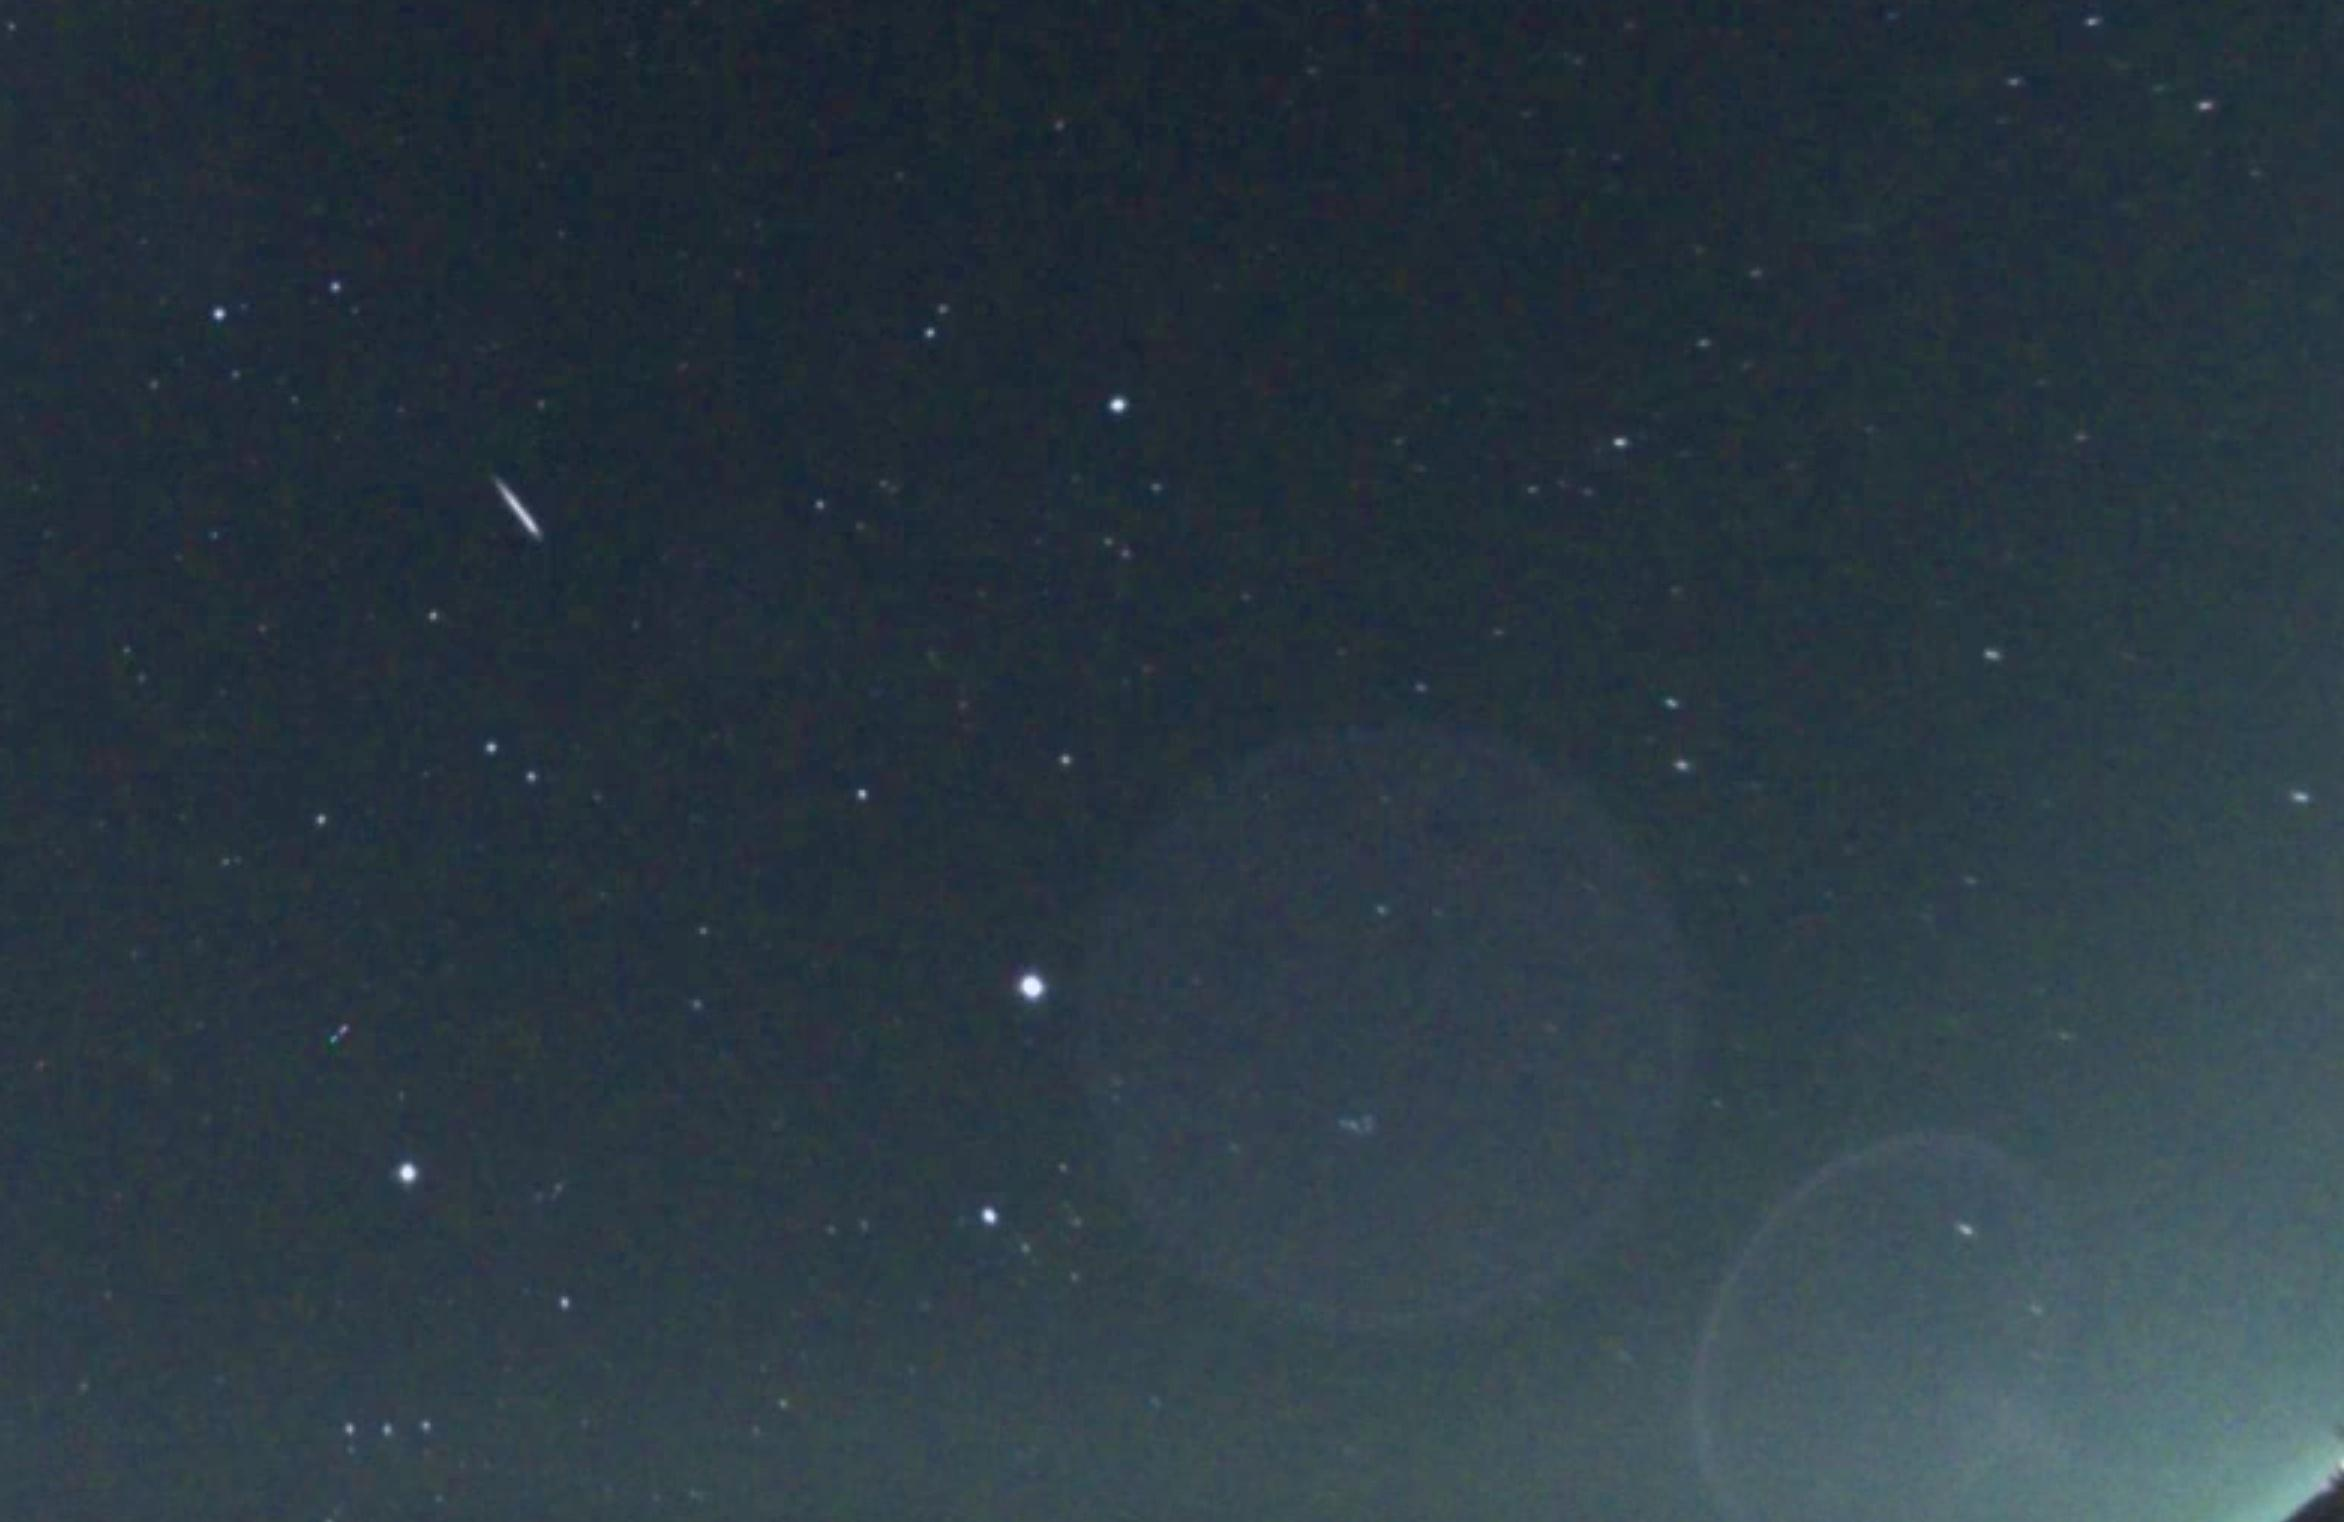Plane: (321, 1010, 364, 1056)
meteorite: (460, 437, 567, 571)
